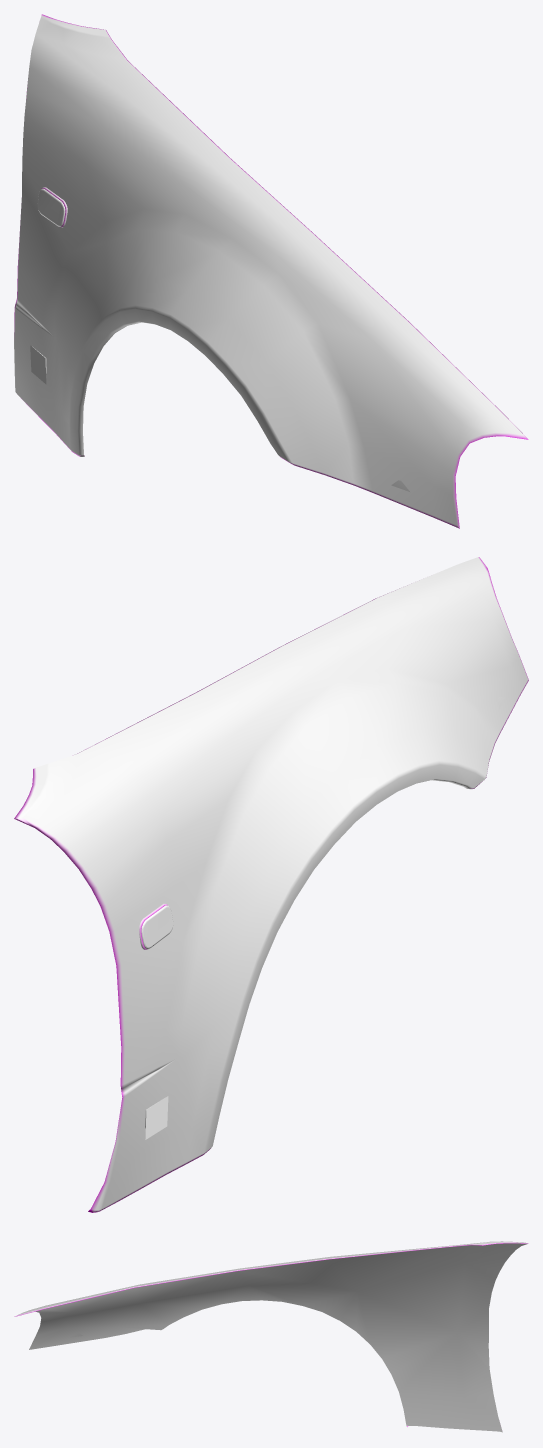
File: Car_Nissan_SkylineGTRVspecR34_1999_FenderFR_SetB.fbx
3 renders of one model, top to bottom at view 1: azimuth 30°, elevation 25°; view 2: azimuth 150°, elevation 25°; view 3: azimuth 270°, elevation 25°, orthographic. The views are drawn at different scales.
Visible parts, largest first — view 1: FenderFR 6; view 2: FenderFR 6; view 3: FenderFR 6.
Boxes of the visible parts, x1,y1,x2,y2 form: FenderFR 6: (14, 14, 528, 528); FenderFR 6: (14, 557, 528, 1212); FenderFR 6: (14, 1241, 528, 1432).
Size of the model in its own units: 0.2093 by 0.5704 by 1.29.
